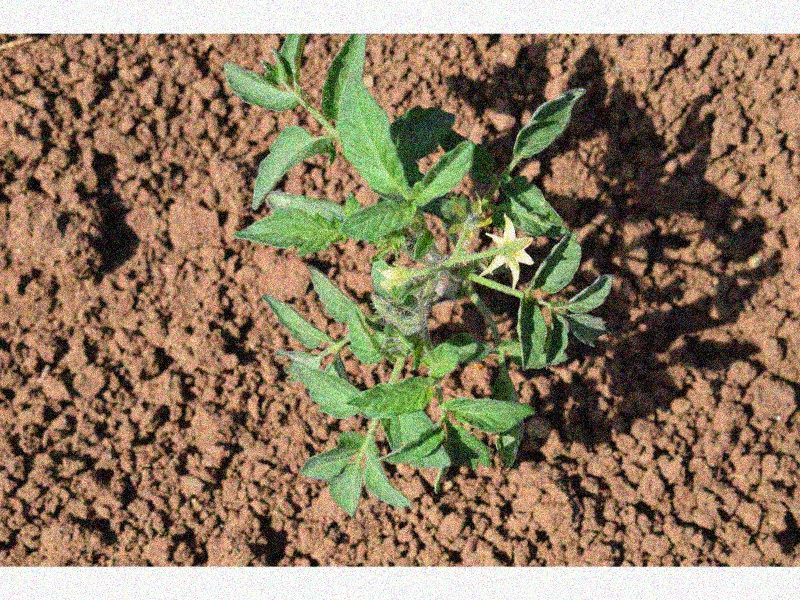tomato: (224, 33, 611, 515)
